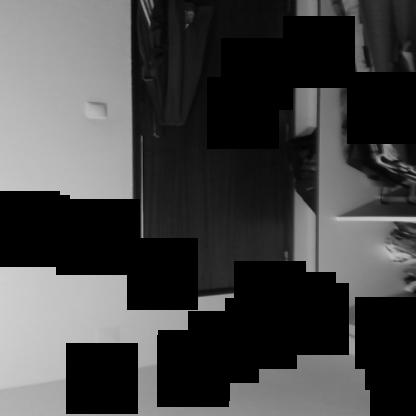Porte: (128, 1, 302, 305)
